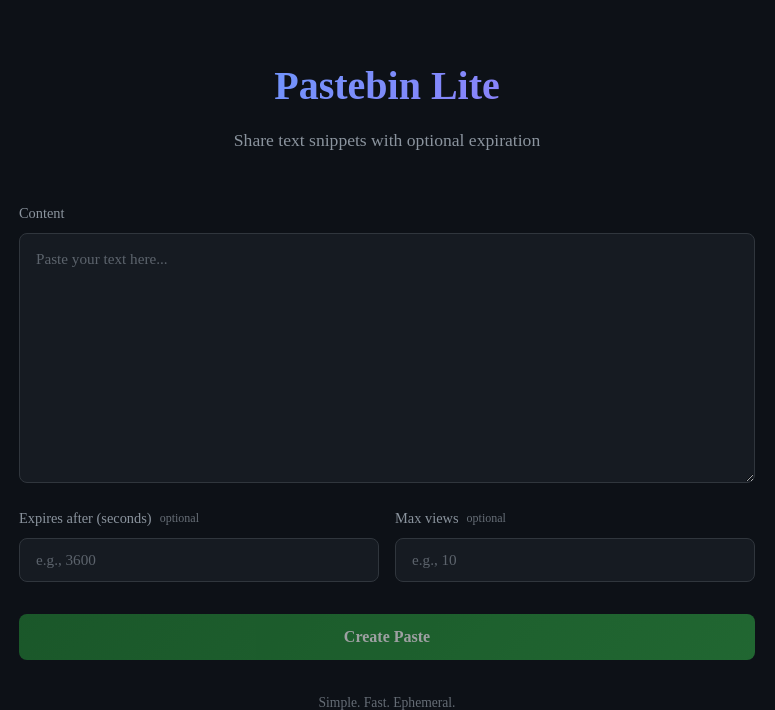
Test: Home Page - Create Paste Form › form submission - errors › should display error message on API failure
Note: Type and clear to enable submit (content required in HTML)
Type "x" into the text box labelled "Content" at coordinates (387, 358), box [19, 233, 755, 483]
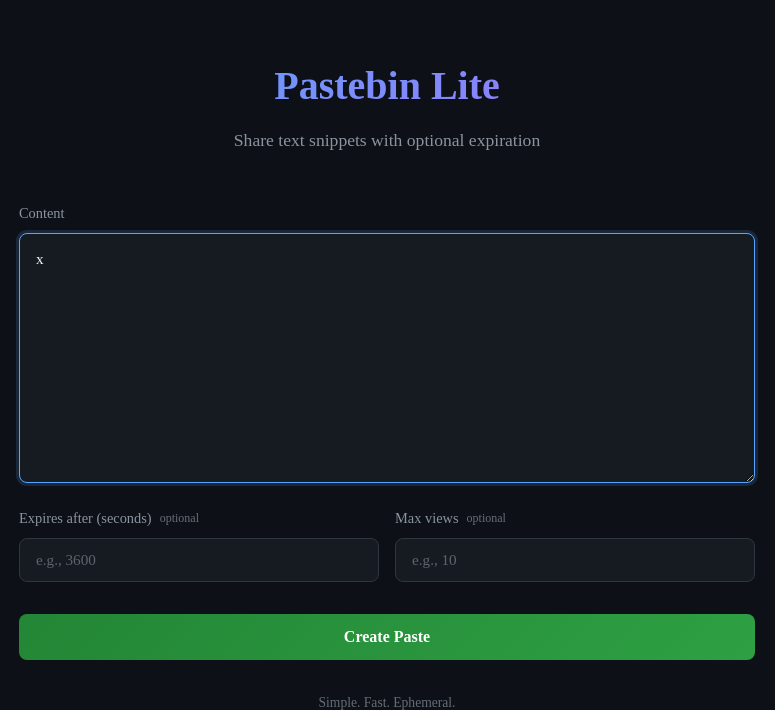
Click the button "Create Paste" at coordinates (387, 637), box [19, 614, 755, 660]
(page scrolled)
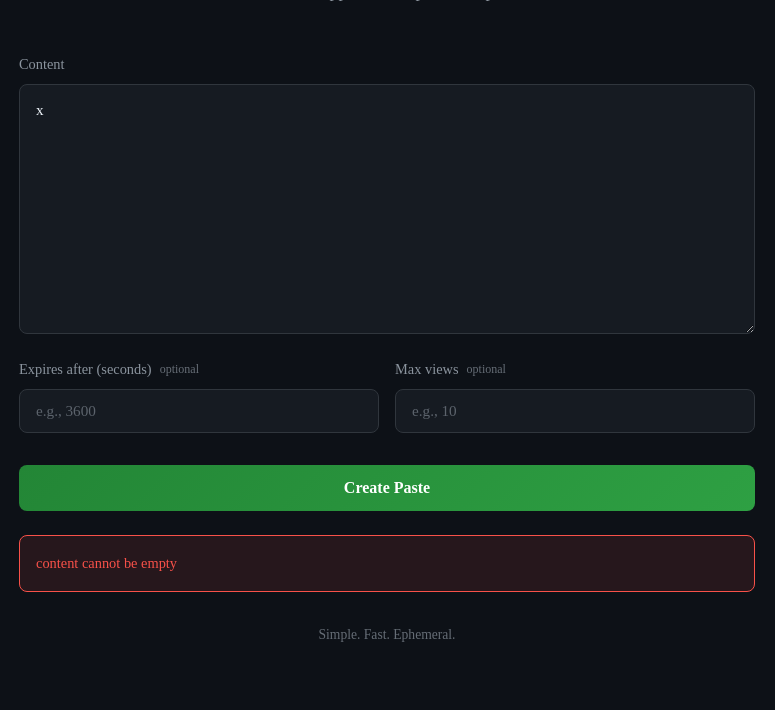
Result: the message reads "content cannot be empty" at [36, 555, 177, 571]
